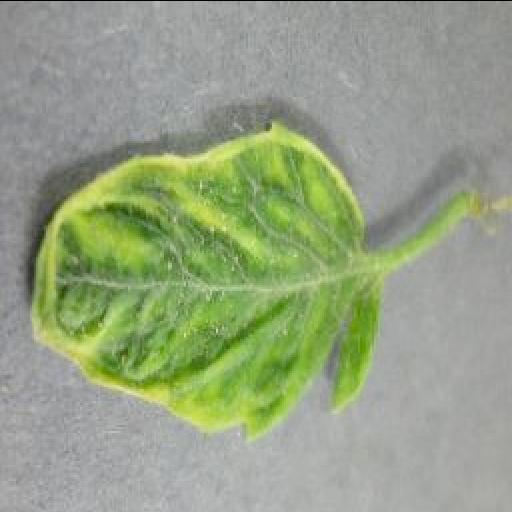disease_tomato: (30, 121, 382, 442)
